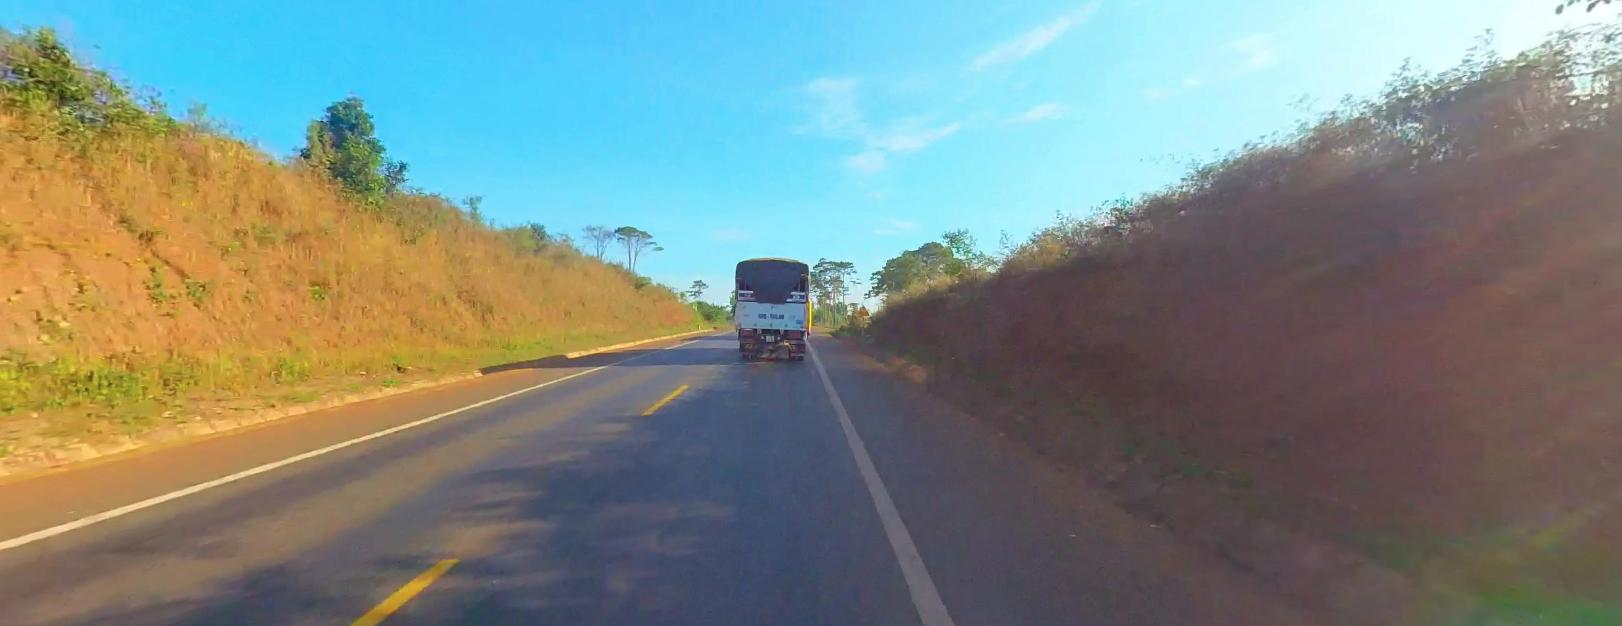Nguy hiem: (857, 304, 868, 314)
